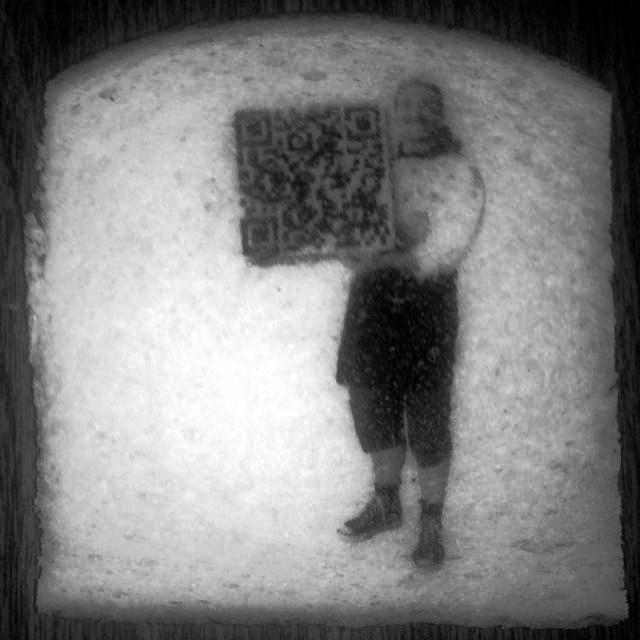qr_code: (235, 104, 391, 256)
